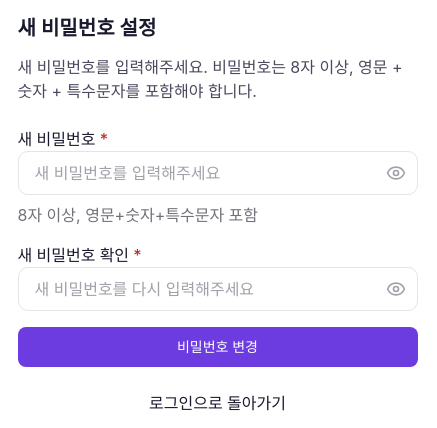
Scenario: ResetPasswordPage › token query 있을 때 (confirm 모드) › 401 응답 시 에러 UI + "다시 요청하기" 링크가 표시된다
In the password field labelled "새 비밀번호 *": (218, 173) [18,151,418,195], type "Test1234!"
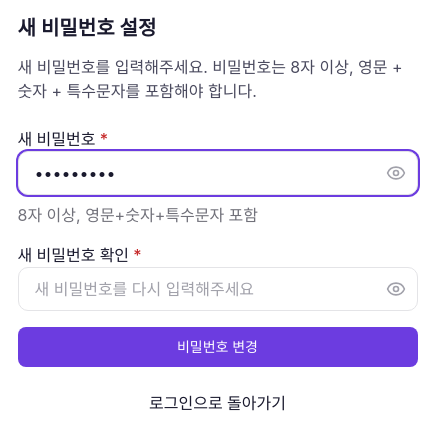
In the password field labelled "새 비밀번호 확인 *": (218, 289) [18,267,418,311], type "Test1234!"
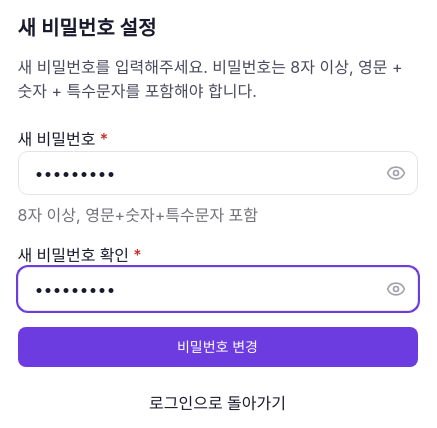
Click the button "비밀번호 변경": (218, 347) [18,327,418,367]
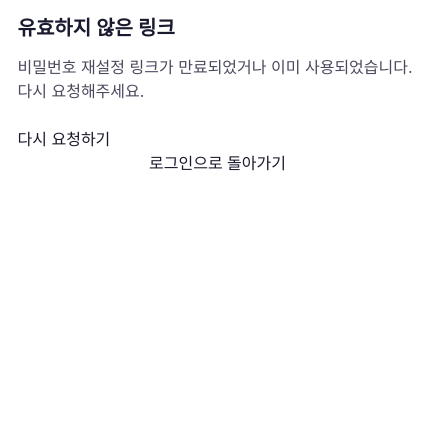
Expected: the heading "유효하지 않은 링크" is shown, [18,16,175,40]
Expected: the link "다시 요청하기" is shown, [18,129,110,149]
